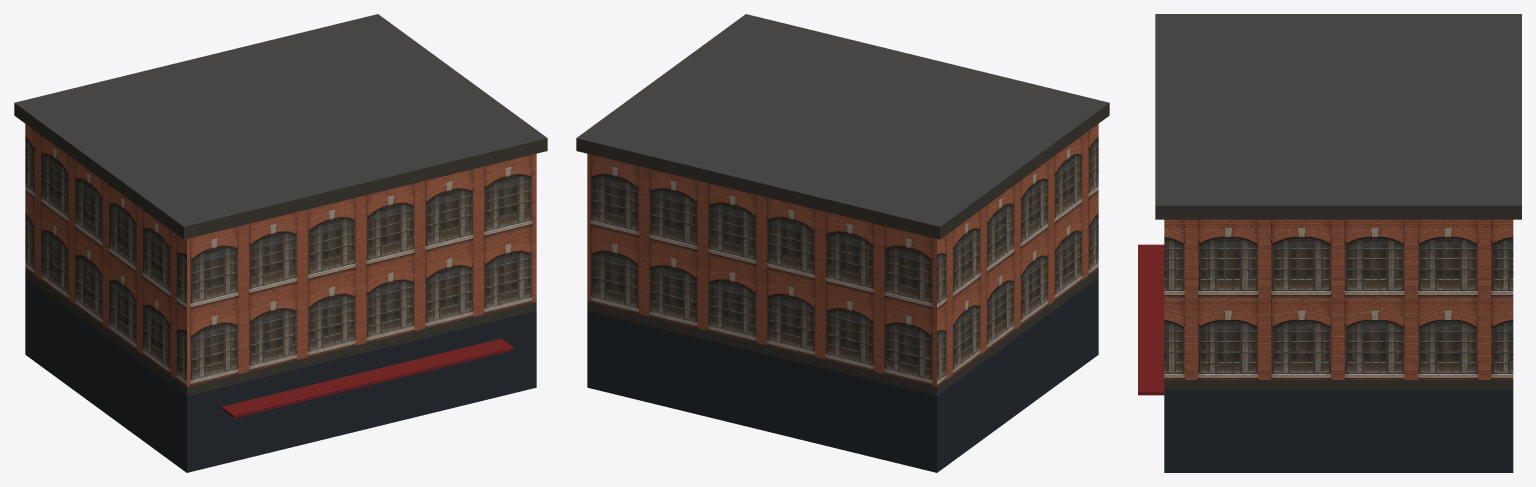
File: gen_low2_brick_shop.glb
The picture shows the model from 3 angles, left to right: view 1: azimuth 30°, elevation 25°; view 2: azimuth 150°, elevation 25°; view 3: azimuth 270°, elevation 25°; orthographic projection. The views are drawn at different scales.
Parts seen in each view (by area): view 1: gen_low2_brick_shop; view 2: gen_low2_brick_shop; view 3: gen_low2_brick_shop.
Boxes of the visible parts, box(x1,y1,x2,y2) form: gen_low2_brick_shop: box(14, 14, 547, 472); gen_low2_brick_shop: box(576, 14, 1109, 472); gen_low2_brick_shop: box(1138, 14, 1521, 472).
Size of the model in its own units: 20.8 by 13.7 by 17.6.
2 materials, 2 textured.
